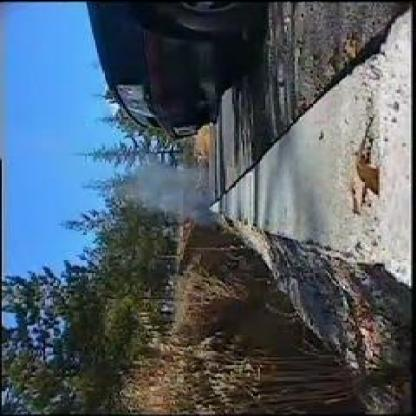-: (138, 168, 212, 222)
